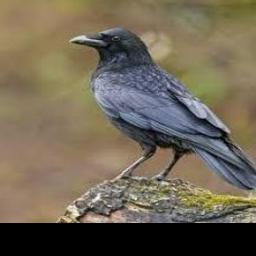Crow: (69, 27, 256, 192)
